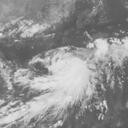cyclone: (35, 47, 98, 105)
